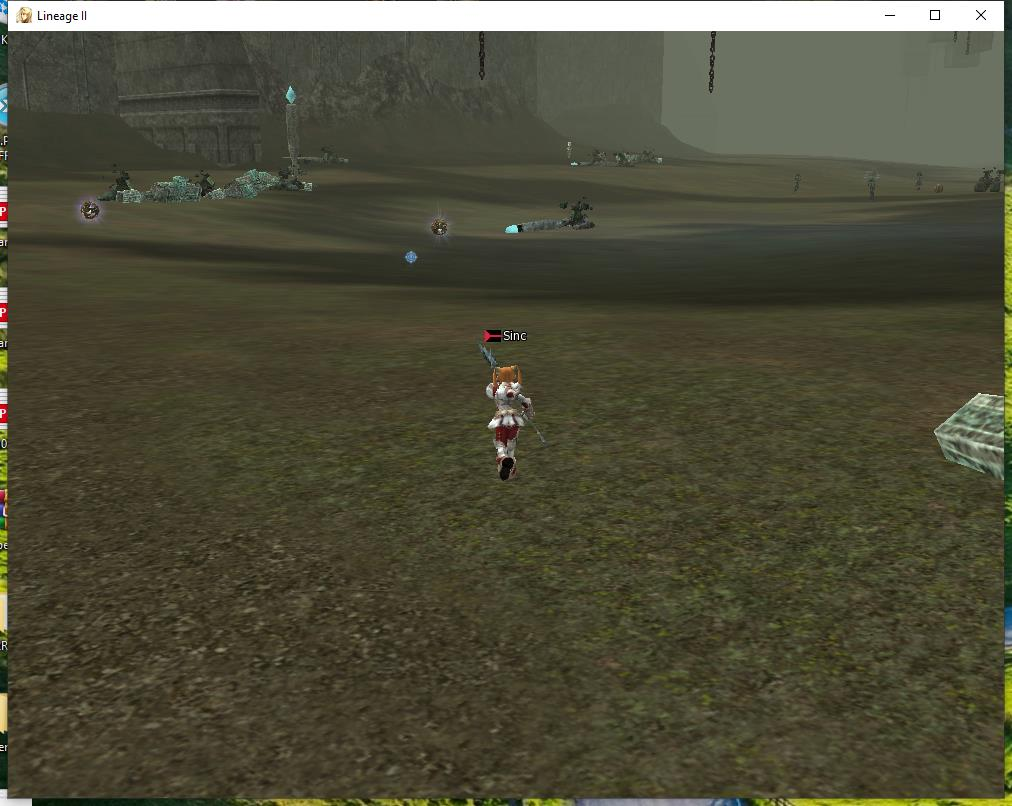monster: (238, 101, 320, 202), (506, 179, 599, 251), (160, 163, 226, 204), (98, 165, 147, 204), (429, 214, 458, 242), (80, 200, 110, 226)
